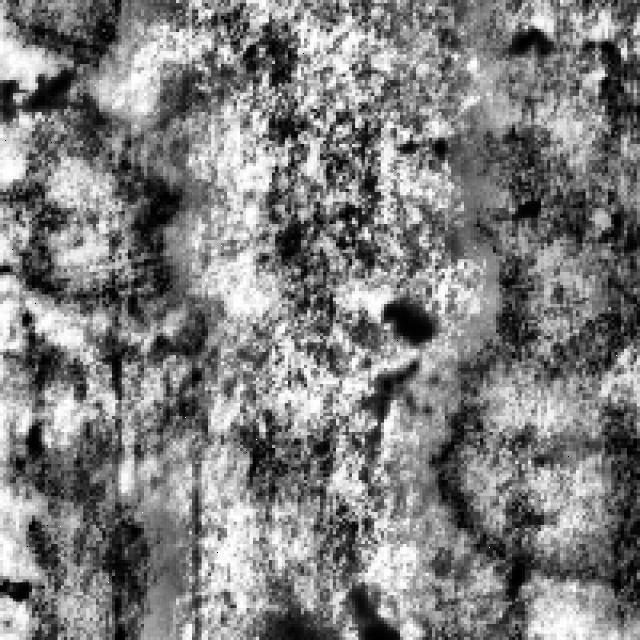Patches: (355, 288, 432, 394), (0, 57, 77, 121)
Scratches: (438, 0, 637, 576), (0, 0, 192, 336), (0, 412, 163, 634)
